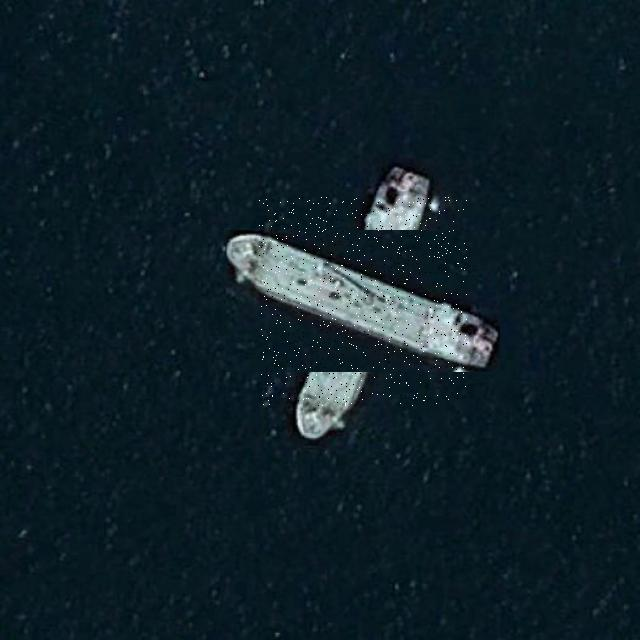boat: (259, 197, 467, 406)
